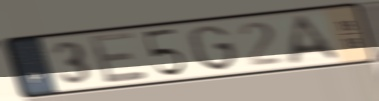2: (238, 19, 284, 67)
3: (49, 39, 93, 86)
5: (141, 26, 187, 78)
A: (285, 12, 347, 67)
E: (86, 30, 152, 87)
G: (187, 23, 241, 72)
